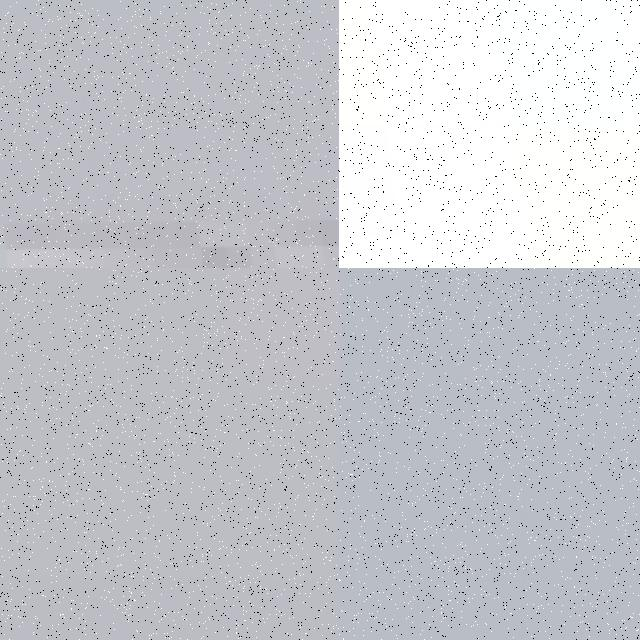drone: (0, 0, 339, 268), (339, 0, 640, 268)
